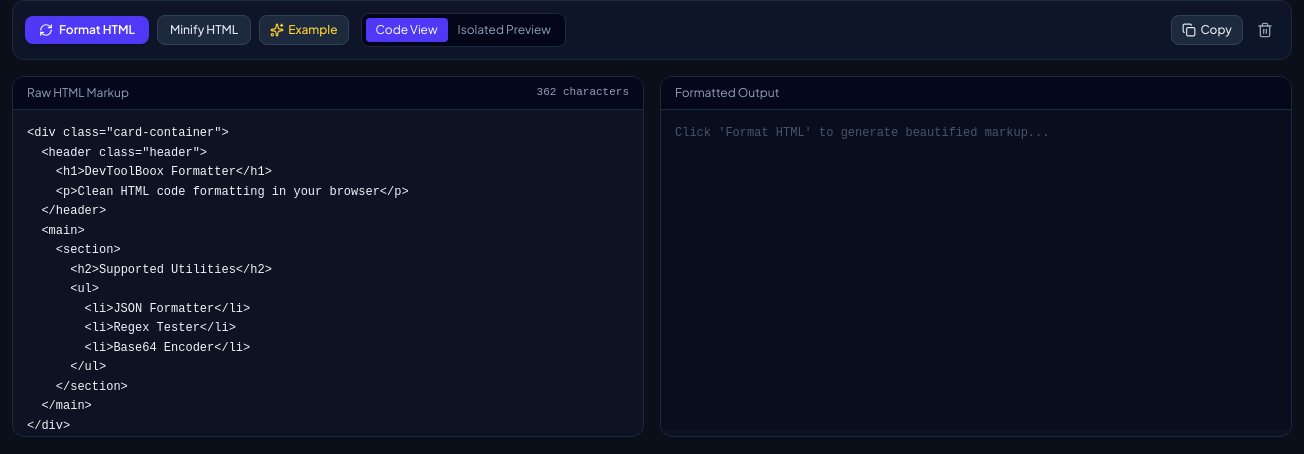
Test: HtmlFormatter Tool › clears input and output on trash button click
Click the button titled "Reset and clear all".
click(1265, 30)  # box top-left (1251, 16), bottom-right (1279, 44)
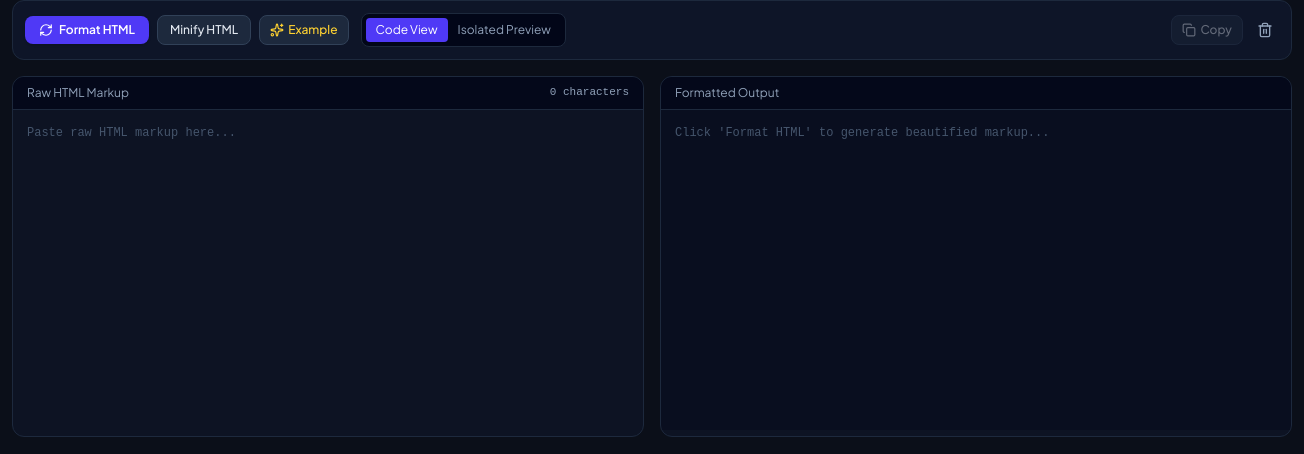
Result: the text box with placeholder "Paste raw HTML markup here..." is empty at top-left (13, 110), bottom-right (643, 430)
